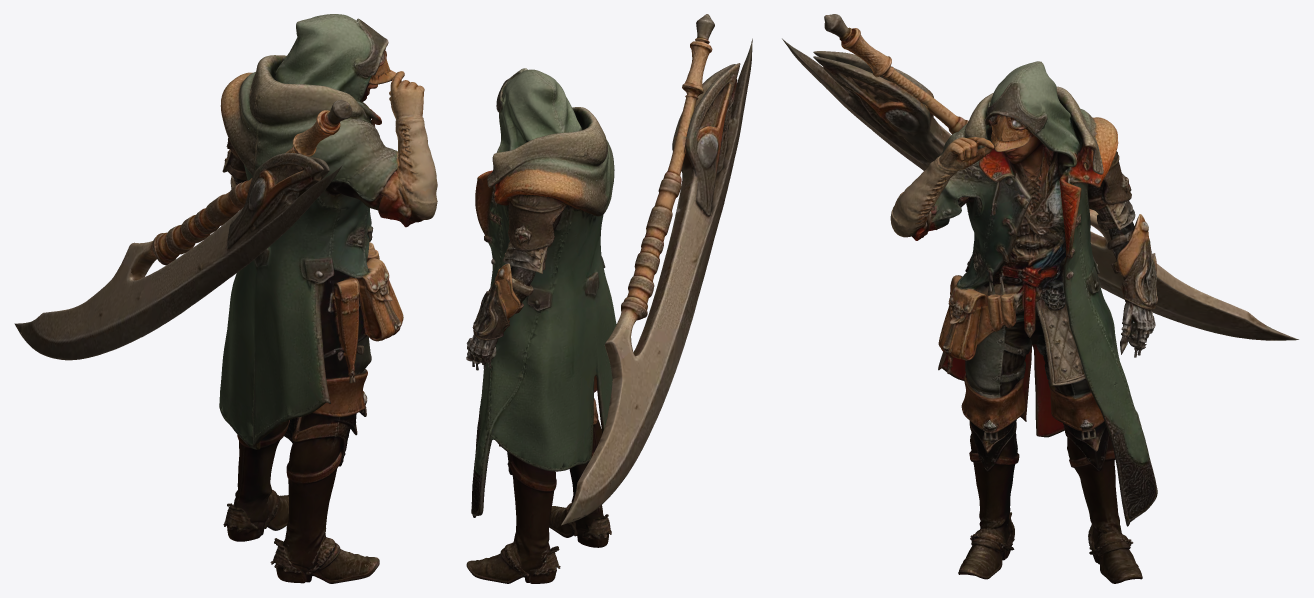
File: tripo-fantasy-assassin.glb
3 views of the same model, side by side, from view 1: azimuth 30°, elevation 25°; view 2: azimuth 150°, elevation 25°; view 3: azimuth 270°, elevation 25° (orthographic). The views are drawn at different scales.
Visible parts, largest first — view 1: tripo_node_4861fb81-2636-4c0d-958a-b45115b5a7b8; view 2: tripo_node_4861fb81-2636-4c0d-958a-b45115b5a7b8; view 3: tripo_node_4861fb81-2636-4c0d-958a-b45115b5a7b8.
Part boxes in pixels (x1=…): tripo_node_4861fb81-2636-4c0d-958a-b45115b5a7b8: x1=14, y1=14, x2=437, y2=583; tripo_node_4861fb81-2636-4c0d-958a-b45115b5a7b8: x1=466, y1=14, x2=752, y2=583; tripo_node_4861fb81-2636-4c0d-958a-b45115b5a7b8: x1=782, y1=14, x2=1298, y2=583.
Size of the model in its own units: 0.4495 by 0.9812 by 0.8819.
1 material, 1 textured.
